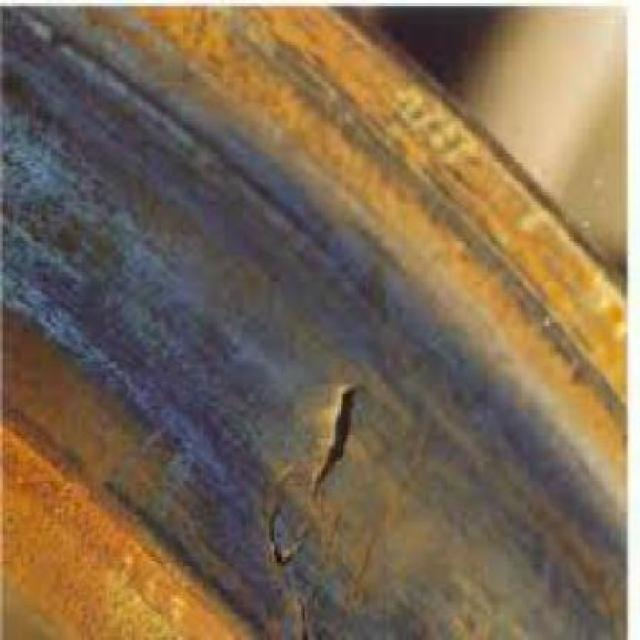defective: (0, 4, 625, 638)
